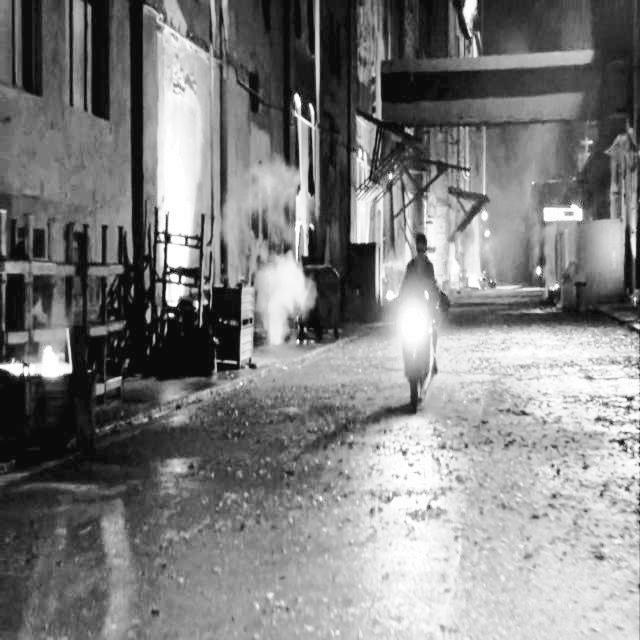Motorcycle: (385, 296, 450, 397)
